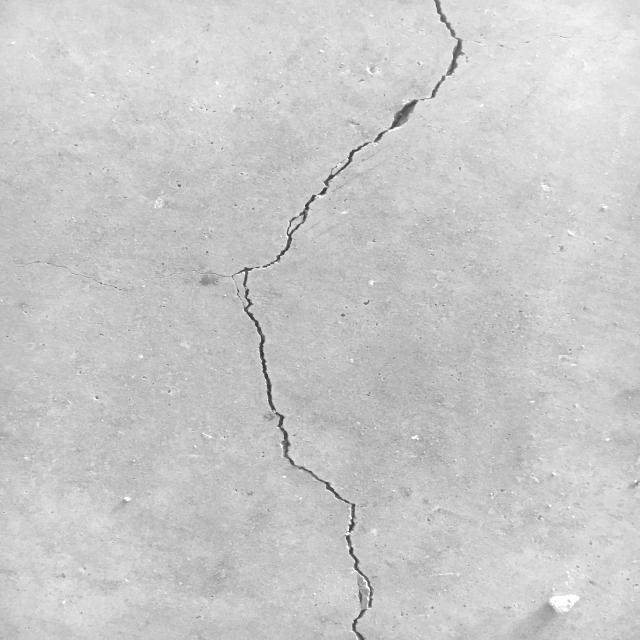SurfaceCrack: (213, 0, 492, 639)
